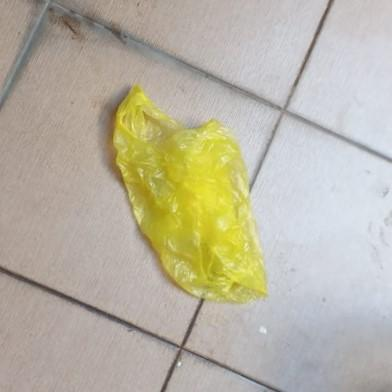Plastik: (112, 83, 270, 302)
